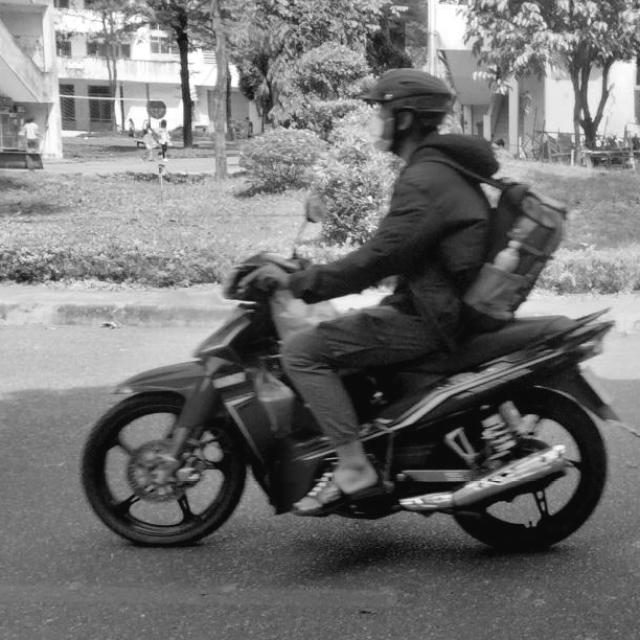Helmet: (366, 66, 456, 156)
